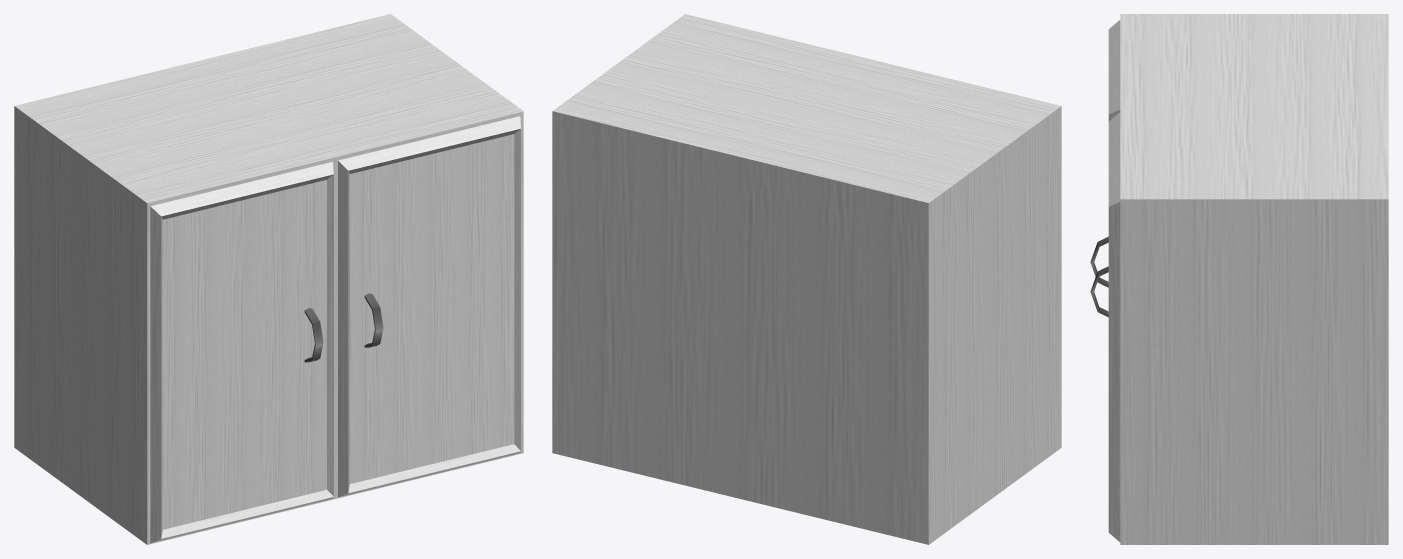
The model's file is Open_Cabinet_B.FBX.
3 views of the same model, side by side, from view 1: azimuth 30°, elevation 25°; view 2: azimuth 150°, elevation 25°; view 3: azimuth 270°, elevation 25° (orthographic).
Visible parts, largest first — view 1: Cabinet_Open_A, Door001, Door; view 2: Cabinet_Open_A; view 3: Cabinet_Open_A, Door, Door001.
Part boxes in pixels (bbox=[...]): Cabinet_Open_A: bbox=[14, 14, 523, 544]; Door001: bbox=[150, 162, 333, 543]; Door: bbox=[338, 116, 520, 497]; Cabinet_Open_A: bbox=[552, 14, 1061, 544]; Cabinet_Open_A: bbox=[1120, 14, 1388, 544]; Door: bbox=[1090, 112, 1120, 542]; Door001: bbox=[1090, 20, 1120, 287].
Size of the model in its own units: 127 by 110 by 86.01.
